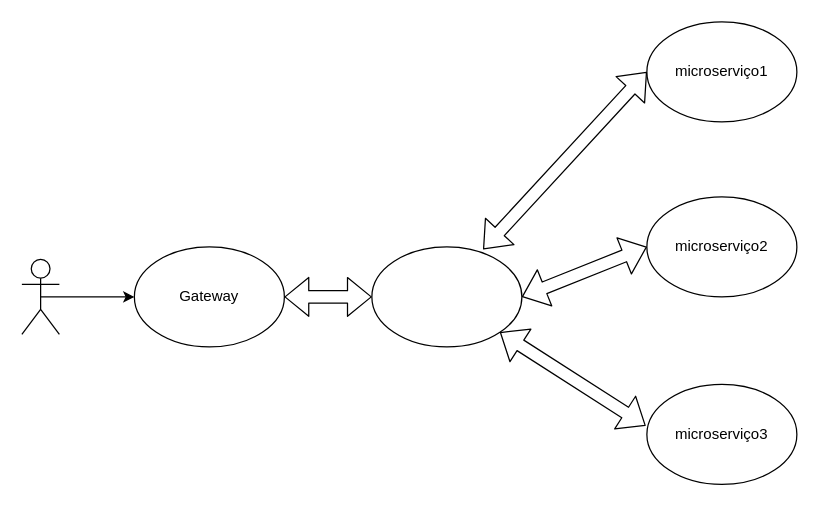
The diagram is 819 pixels wide and 506 high, and some of its shapes have lost their labels. Here are the shapes that lost their labels. From the top down, the centre of each, then its label:
At point 40,296: "Actor".
At point 446,296: "Broker - RabbitMQ".
